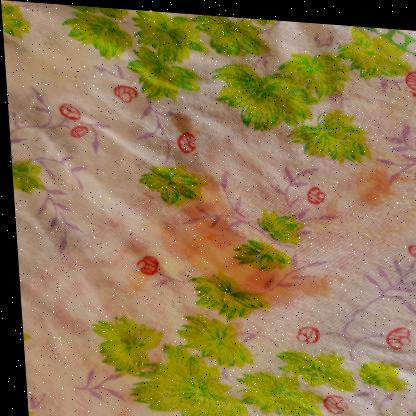spot: (97, 103, 358, 335), (301, 137, 416, 245)
